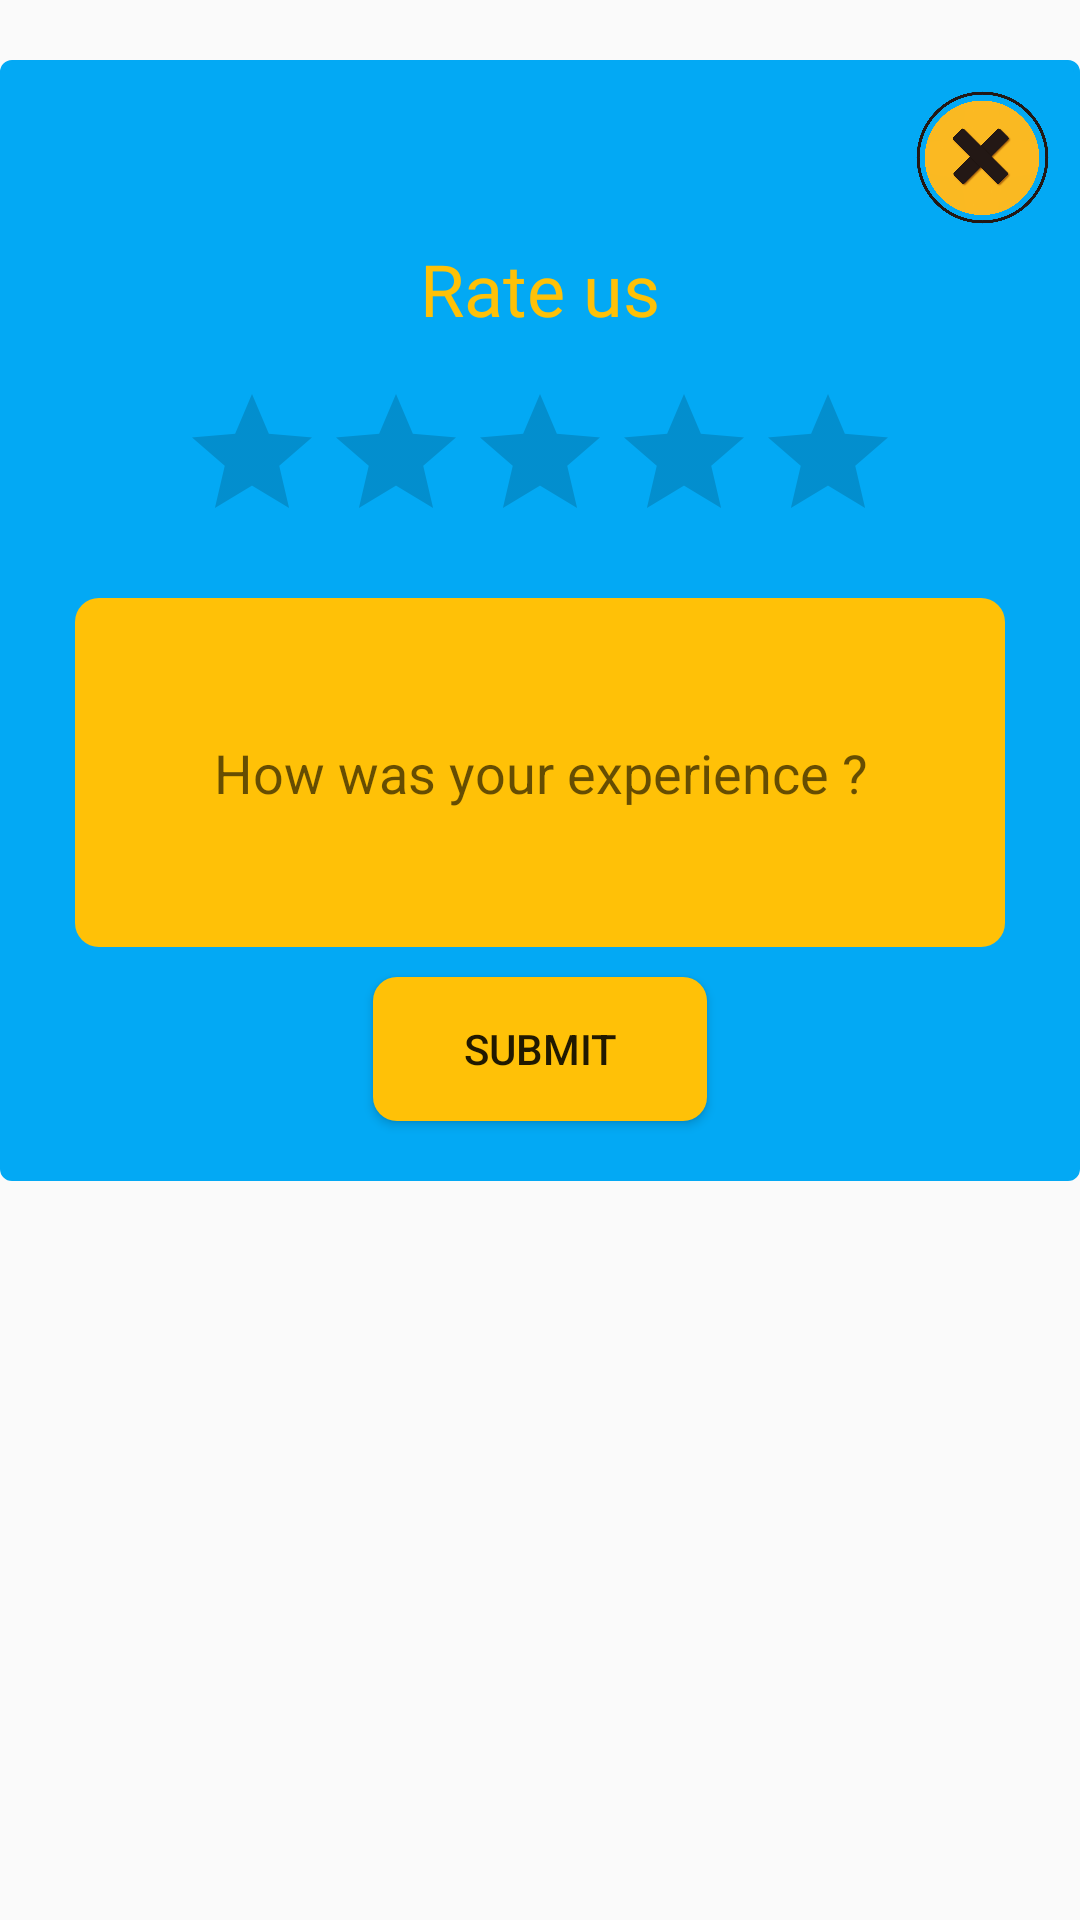

Icon bounding boxes for this 1080 x 1920 phone screenshot, format bbox(x1, y1, x2, y2):
backbutton: bbox(916, 91, 1049, 224)
